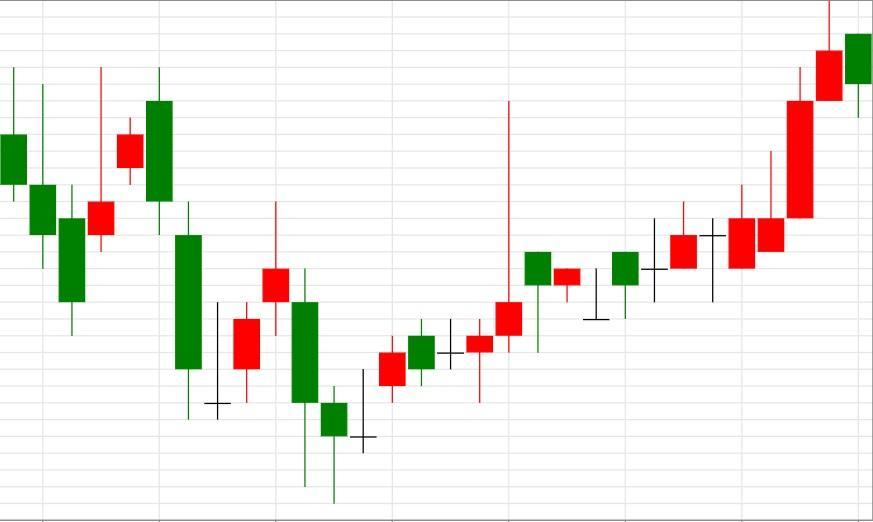bearish_engulfing_fall: (58, 67, 174, 336)
